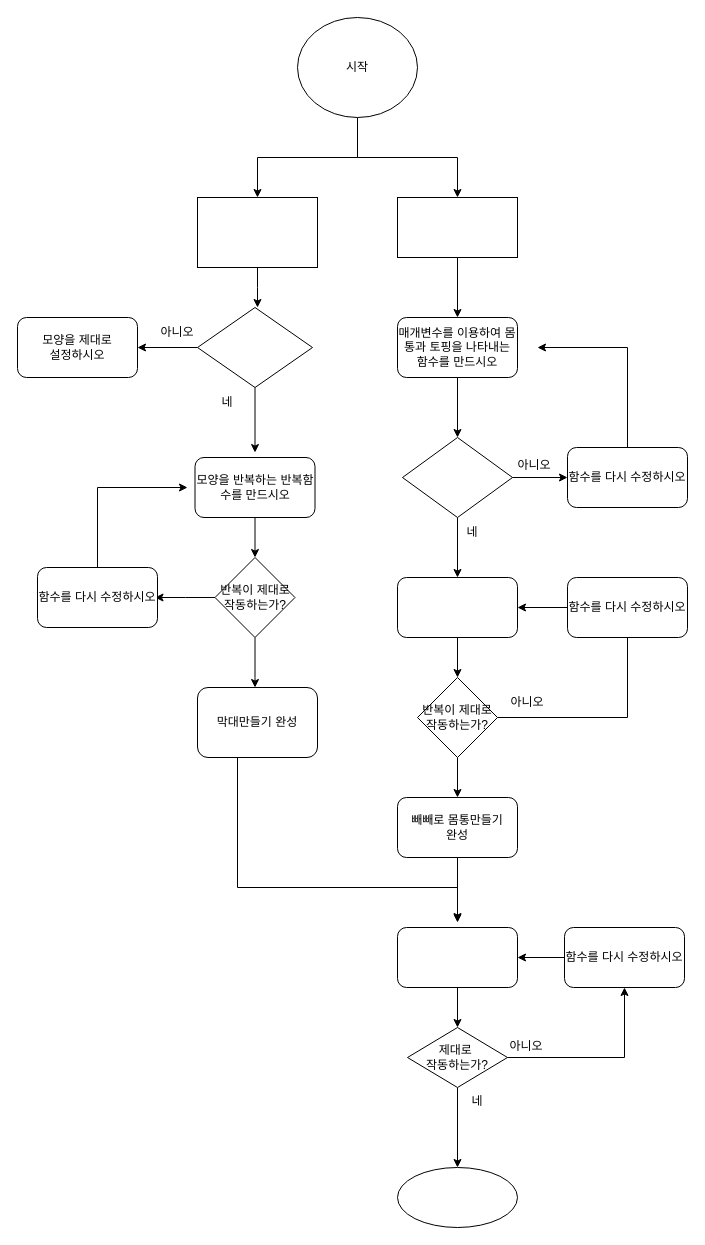
Image size: 705x1245. Some labels were removed from this diagram. Here are the shapes that lost their labels. From the top down, the centre of each, then its label:
At pixel 257 232: "막대만들기".
At pixel 457 227: "몸통그리기".
At pixel 254 347: "모양을 제대로 설정 하였는가?".
At pixel 457 477: "원하는 몸통과 토핑을 넣어서 만들어지는가?".
At pixel 457 607: "몸통과 토핑을 반복하는 함수를 만드시오".
At pixel 457 957: "몸통과 막대를 한번에 만들수 있는 함수를 만드시오".
At pixel 457 1197: "빼빼로 만들기 완성".
